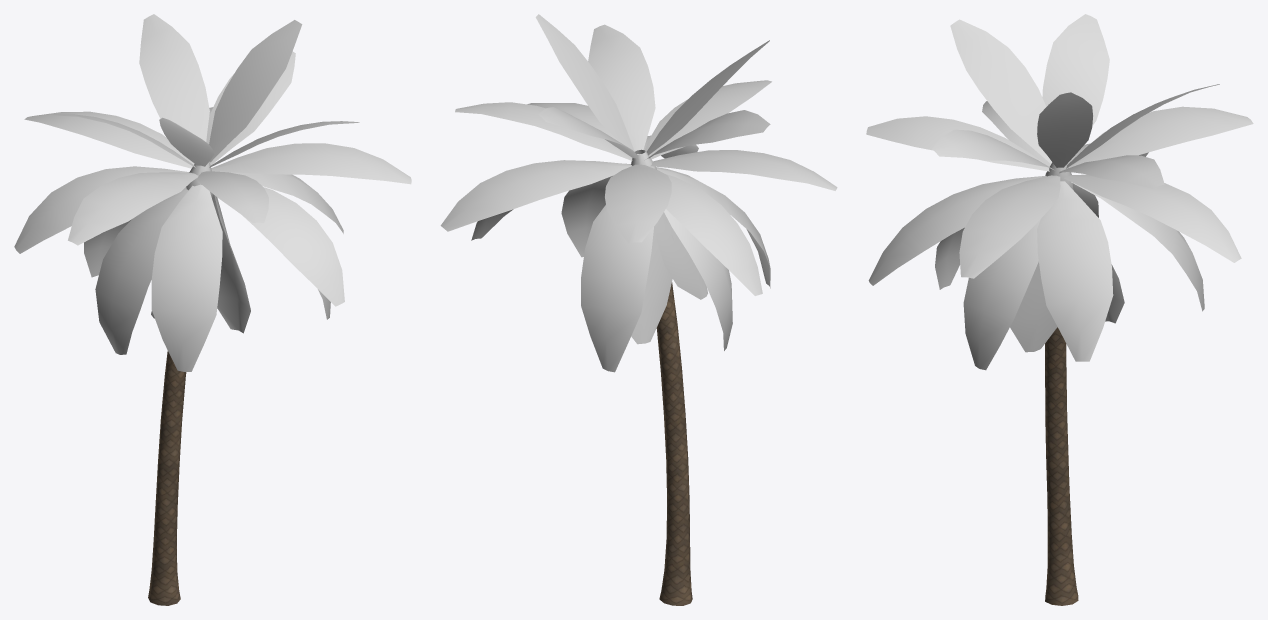
The model's file is palm_hero_lod1.glb.
3 renders of one model, left to right at view 1: azimuth 30°, elevation 25°; view 2: azimuth 150°, elevation 25°; view 3: azimuth 270°, elevation 25°, orthographic. The views are drawn at different scales.
Visible parts, largest first — view 1: palm_hero_lod1; view 2: palm_hero_lod1; view 3: palm_hero_lod1.
Boxes of the visible parts, x1,y1,x2,y2 form: palm_hero_lod1: (14,14,411,605); palm_hero_lod1: (440,14,837,605); palm_hero_lod1: (866,14,1253,605).
Bounding box in the file's own units: 6.37 × 9.99 × 6.08.
2 materials, 1 textured.
